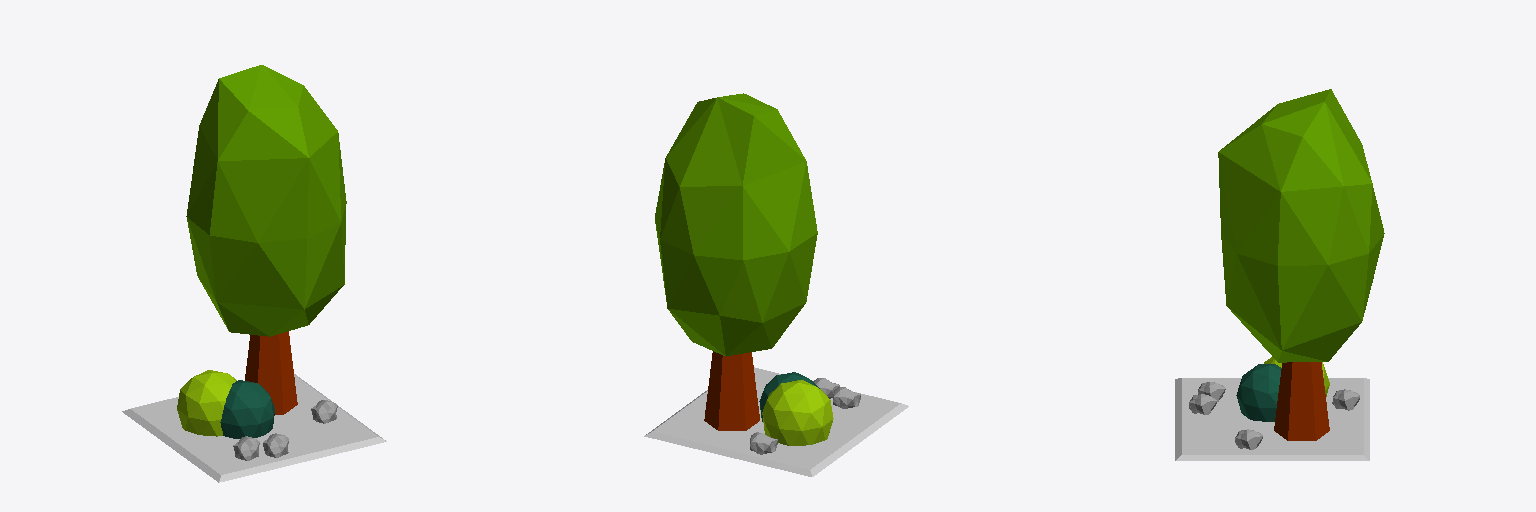
Rendered from tree_tile.obj.
3 views of the same model, side by side, from view 1: azimuth 30°, elevation 25°; view 2: azimuth 150°, elevation 25°; view 3: azimuth 270°, elevation 25° (orthographic).
Visible parts, largest first — view 1: Icosphere.004_Icosphere.011, Plane.001_Plane.002, Cylinder, Icosphere.007_Icosphere.008, Icosphere.002_Icosphere.003; view 2: Icosphere.004_Icosphere.011, Plane.001_Plane.002, Icosphere.007_Icosphere.008, Cylinder, Icosphere.002_Icosphere.003; view 3: Icosphere.004_Icosphere.011, Plane.001_Plane.002, Cylinder, Icosphere.002_Icosphere.003.
Part boxes in pixels (bbox=[...]): Icosphere.004_Icosphere.011: bbox=[186, 65, 346, 336]; Plane.001_Plane.002: bbox=[122, 374, 386, 482]; Cylinder: bbox=[245, 331, 297, 414]; Icosphere.007_Icosphere.008: bbox=[177, 370, 236, 436]; Icosphere.002_Icosphere.003: bbox=[220, 380, 274, 438]; Icosphere.004_Icosphere.011: bbox=[655, 93, 817, 356]; Plane.001_Plane.002: bbox=[644, 367, 908, 476]; Icosphere.007_Icosphere.008: bbox=[762, 380, 833, 445]; Cylinder: bbox=[704, 351, 759, 430]; Icosphere.002_Icosphere.003: bbox=[759, 372, 819, 421]; Icosphere.004_Icosphere.011: bbox=[1218, 89, 1384, 362]; Plane.001_Plane.002: bbox=[1175, 378, 1369, 460]; Cylinder: bbox=[1274, 362, 1329, 440]; Icosphere.002_Icosphere.003: bbox=[1236, 364, 1281, 421].
Bounding box in the file's own units: 4.24 × 7.63 × 4.3.